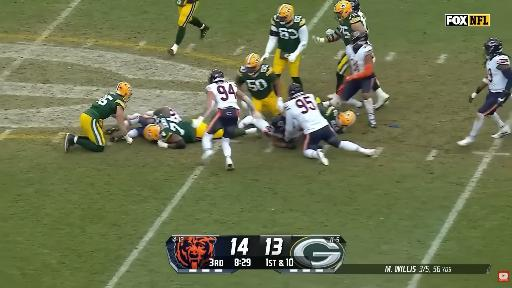Helmet: (334, 0, 352, 21), (484, 39, 502, 58), (277, 4, 294, 24), (245, 54, 261, 75), (116, 82, 132, 102), (271, 114, 285, 134), (144, 124, 160, 141), (338, 111, 355, 127), (288, 83, 303, 98), (209, 69, 225, 83), (351, 31, 368, 44), (349, 0, 360, 12), (316, 98, 321, 103)
Jersey: (285, 94, 328, 134), (236, 65, 277, 99), (270, 15, 305, 53), (85, 93, 126, 119), (156, 115, 195, 142), (337, 12, 367, 46), (206, 82, 239, 109), (486, 55, 510, 92), (346, 43, 372, 74), (319, 104, 341, 133), (178, 121, 196, 143), (169, 108, 182, 121), (176, 0, 197, 6)
Player: (285, 84, 375, 165), (193, 70, 261, 170), (458, 39, 511, 146), (64, 82, 132, 151), (332, 31, 377, 127), (262, 4, 308, 84), (126, 107, 207, 148), (236, 54, 283, 115), (313, 0, 367, 46), (168, 0, 209, 55), (239, 114, 301, 149), (316, 98, 355, 133), (263, 114, 300, 149)
